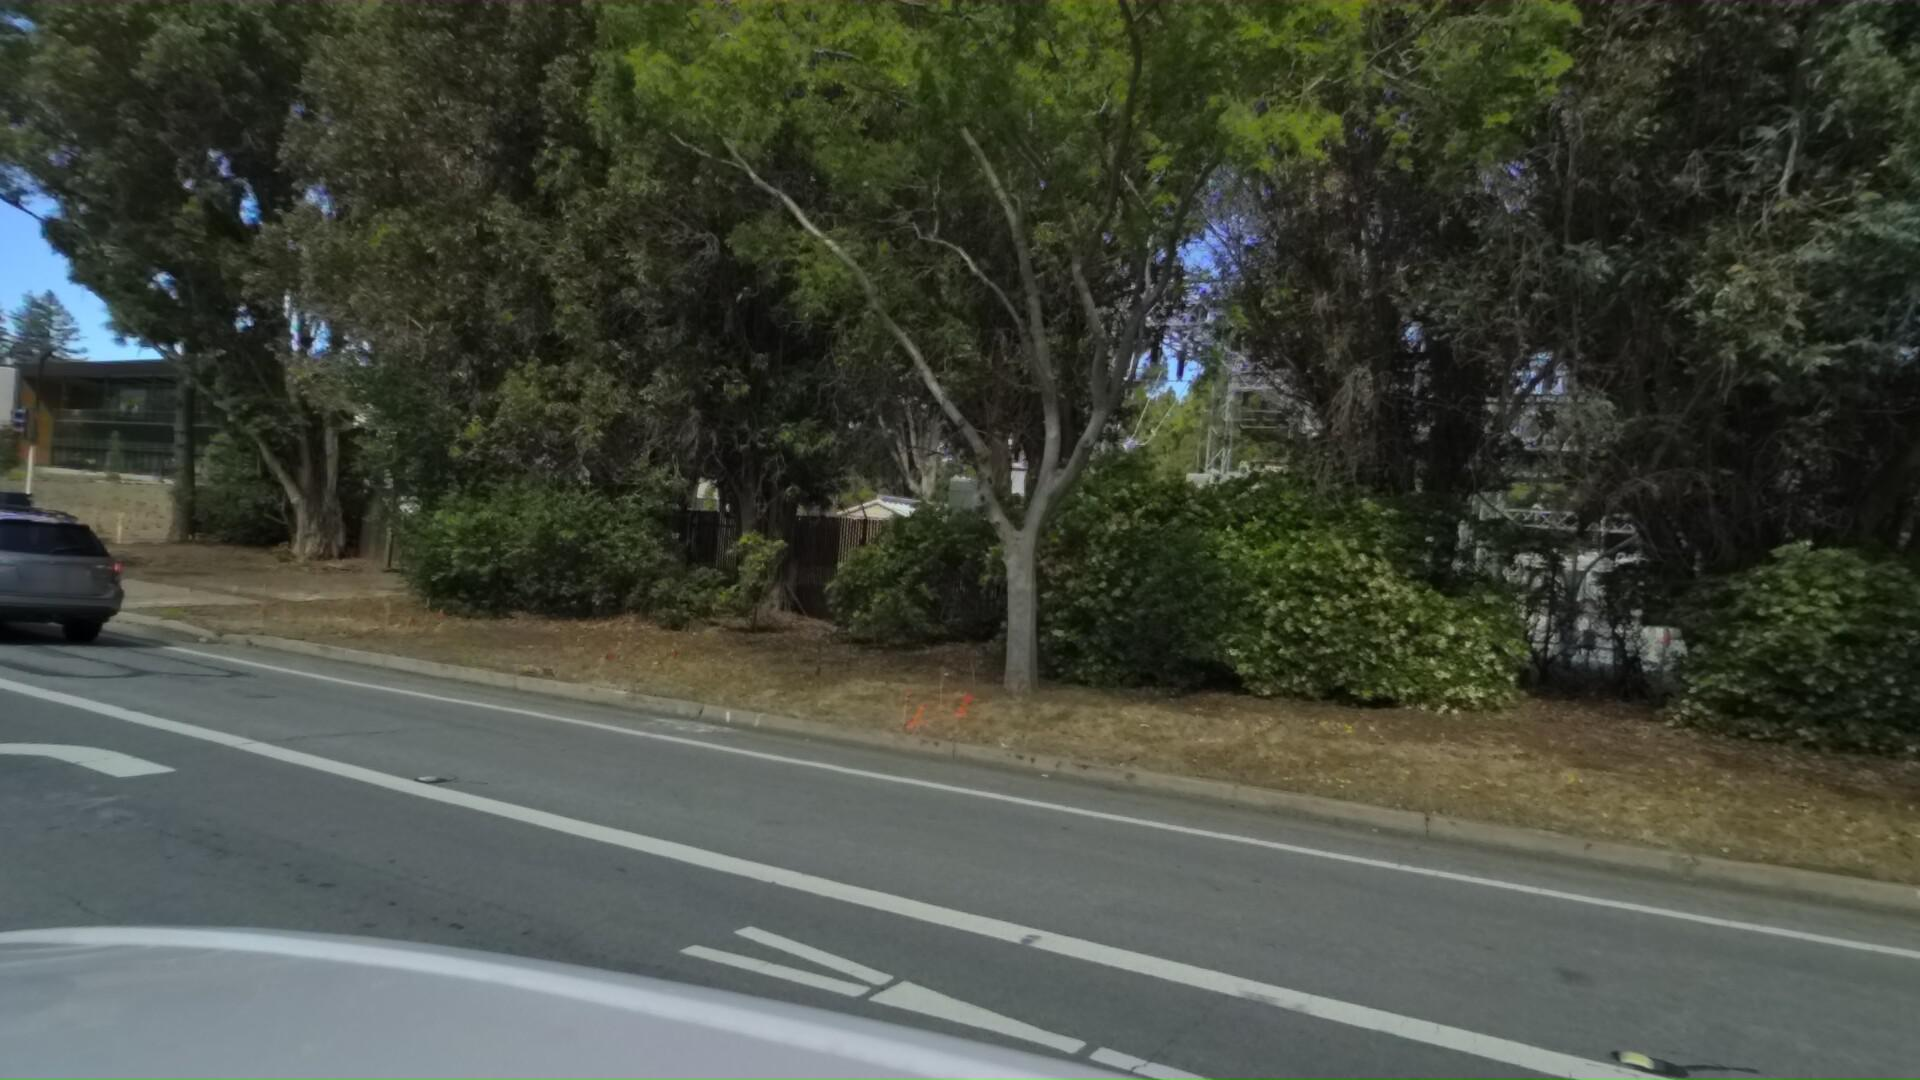car: (0, 476, 169, 665)
